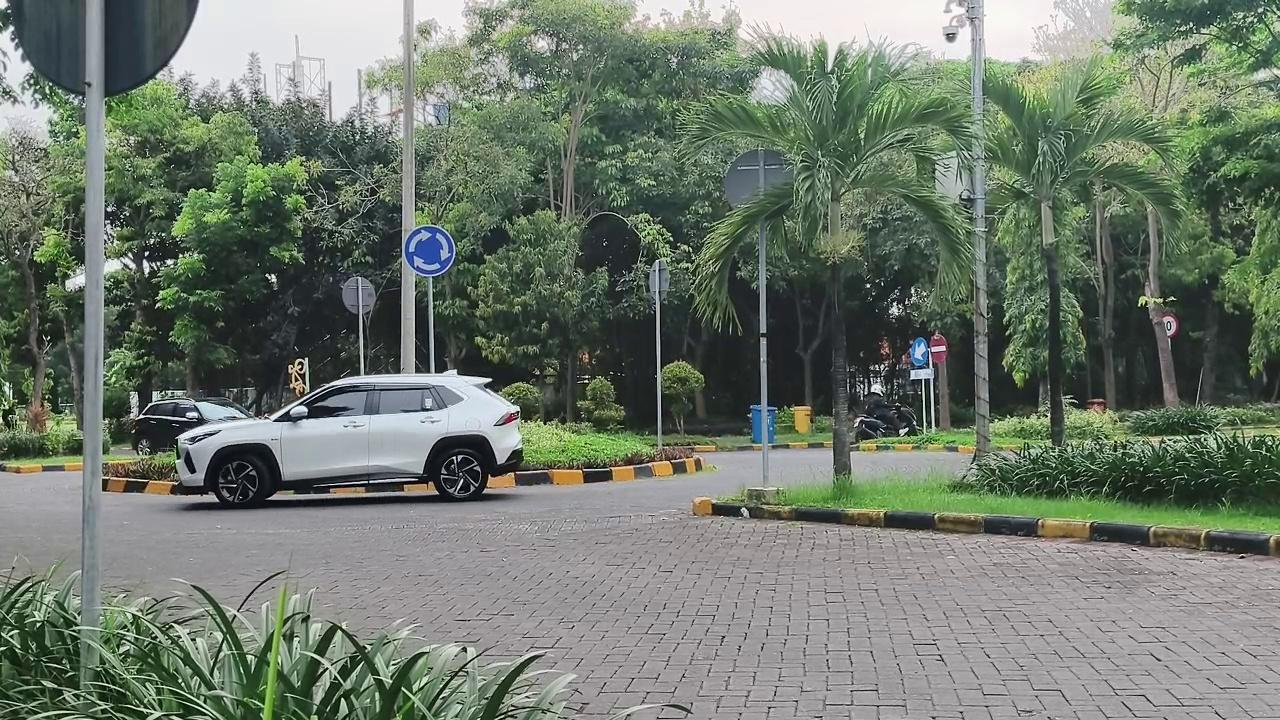Helmet: (872, 382, 885, 397)
Motor: (853, 404, 918, 441)
